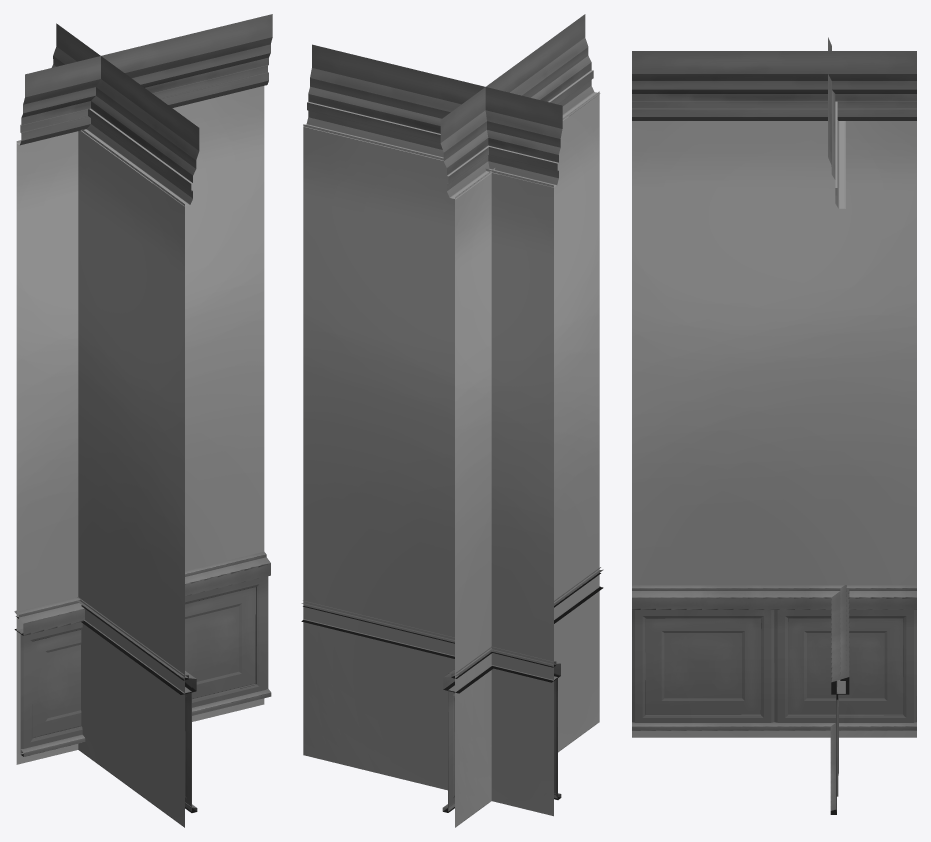
The model's file is Wall_PanelStandard90In.fbx.
3 renders of one model, left to right at view 1: azimuth 30°, elevation 25°; view 2: azimuth 150°, elevation 25°; view 3: azimuth 270°, elevation 25°, orthographic.
Visible parts, largest first — view 1: Wall_PanelStandard90In; view 2: Wall_PanelStandard90In; view 3: Wall_PanelStandard90In.
Boxes of the visible parts, x1=… form: Wall_PanelStandard90In: x1=14, y1=14, x2=272, y2=827; Wall_PanelStandard90In: x1=301, y1=14, x2=603, y2=827; Wall_PanelStandard90In: x1=632, y1=37, x2=916, y2=814.
Size of the model in its own units: 201 by 540 by 201.
